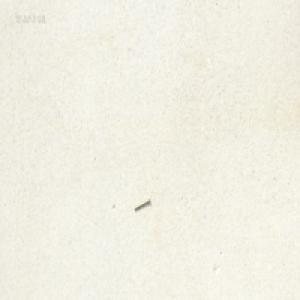Bolt: (133, 197, 151, 210)
